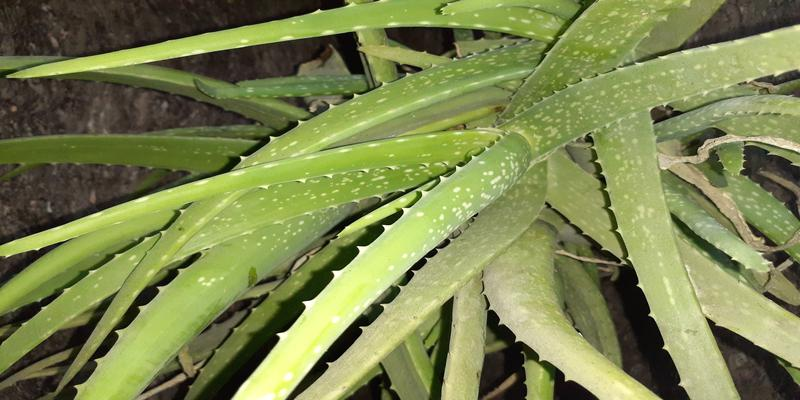Aloevera: (206, 32, 755, 379)
